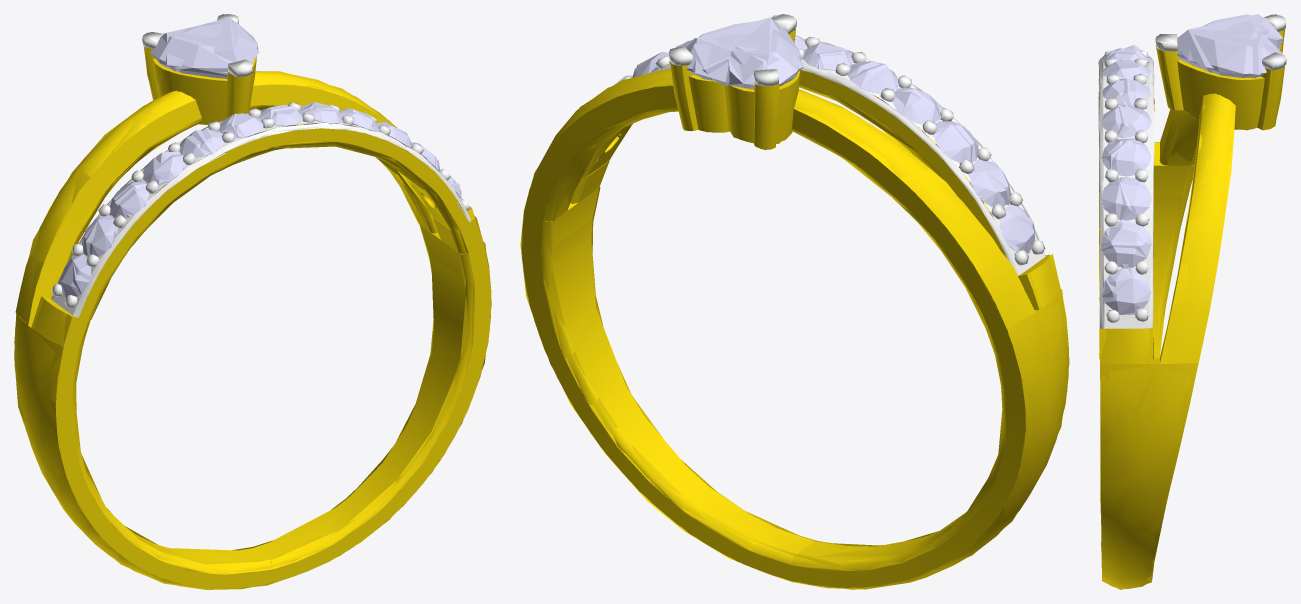
The model's file is DLR-D000679367.glb.
3 views of the same model, side by side, from view 1: azimuth 30°, elevation 25°; view 2: azimuth 150°, elevation 25°; view 3: azimuth 270°, elevation 25° (orthographic). The views are drawn at different scales.
Parts seen in each view (by area): view 1: highPolyMesh, lowPolyMesh; view 2: highPolyMesh, lowPolyMesh; view 3: highPolyMesh, lowPolyMesh.
Part boxes in pixels (x1=…): highPolyMesh: x1=14, y1=14, x2=491, y2=589; lowPolyMesh: x1=14, y1=14, x2=491, y2=588; highPolyMesh: x1=522, y1=14, x2=1068, y2=589; lowPolyMesh: x1=520, y1=14, x2=1069, y2=589; highPolyMesh: x1=1098, y1=14, x2=1285, y2=589; lowPolyMesh: x1=1098, y1=14, x2=1286, y2=589.
Bounding box in the file's own units: 0.0189 × 0.0206 × 0.00656.
